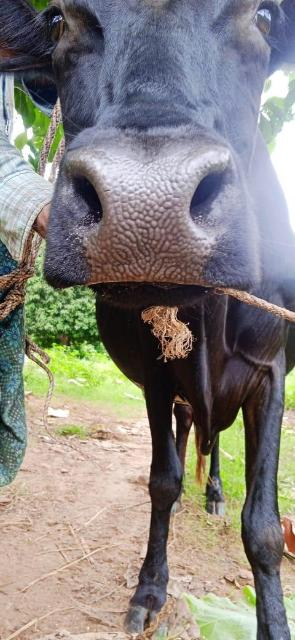Muzzle: (66, 150, 214, 290)
